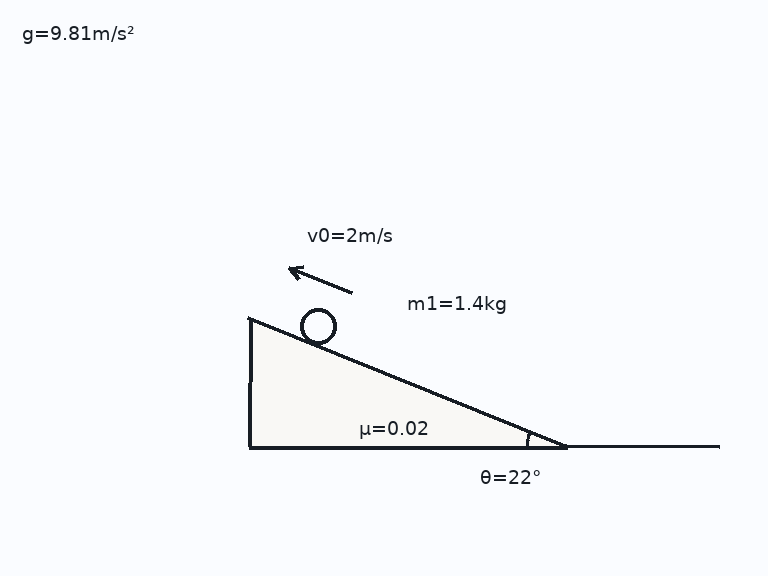ball: (298, 306, 338, 346)
ramp: (247, 316, 569, 448)
